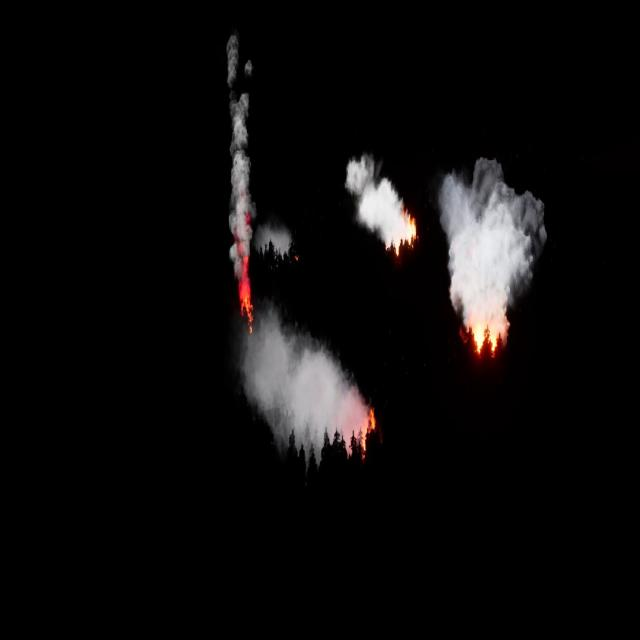fire: (466, 318, 513, 361), (233, 260, 256, 328), (356, 406, 380, 459), (398, 219, 417, 251)
smoke: (237, 306, 365, 472), (221, 27, 287, 268), (438, 164, 542, 315), (344, 152, 406, 248)
